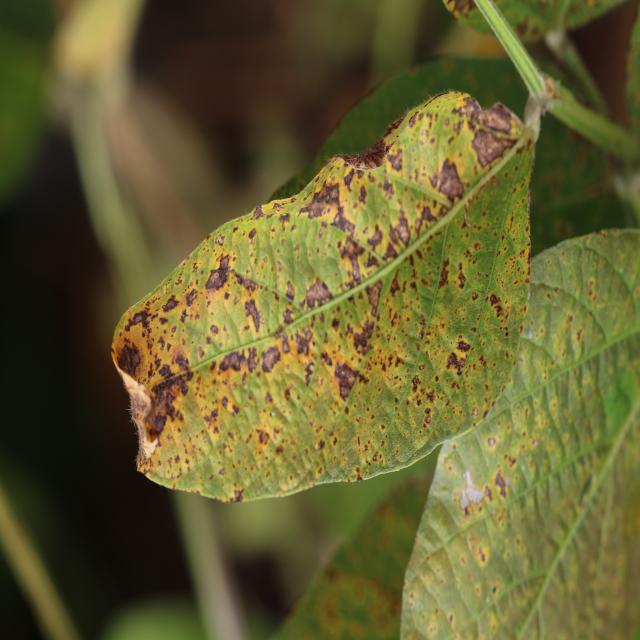Bacterial_Blight: (489, 231, 529, 313), (471, 125, 515, 169), (431, 156, 467, 202), (328, 190, 358, 236), (333, 360, 361, 399), (297, 186, 326, 221), (386, 218, 411, 256), (116, 339, 140, 377), (305, 278, 332, 309), (205, 261, 230, 291), (218, 349, 249, 373), (245, 293, 266, 326), (364, 280, 383, 314), (352, 325, 373, 355), (445, 349, 468, 376), (383, 114, 406, 140), (260, 344, 281, 372), (293, 327, 312, 357), (366, 224, 384, 254), (202, 406, 220, 433), (170, 346, 189, 371), (448, 0, 474, 17), (494, 469, 508, 498), (388, 146, 403, 172), (437, 260, 450, 288), (161, 294, 180, 313), (131, 309, 150, 328), (389, 270, 401, 297), (145, 423, 159, 443), (455, 267, 467, 289), (284, 280, 295, 302), (456, 338, 471, 354), (185, 288, 198, 306), (282, 307, 295, 325), (256, 429, 269, 446), (489, 293, 502, 310), (278, 212, 291, 228), (230, 488, 244, 502), (425, 388, 436, 405), (411, 375, 421, 392), (252, 204, 263, 218), (484, 485, 493, 501), (478, 546, 486, 563), (354, 466, 363, 481), (214, 234, 225, 246), (248, 227, 257, 241), (209, 323, 219, 335), (316, 438, 325, 451), (463, 504, 471, 516), (471, 291, 479, 301), (487, 437, 495, 447), (471, 407, 479, 417), (492, 585, 497, 594), (270, 410, 276, 417)
Soybean: (112, 73, 640, 637)
